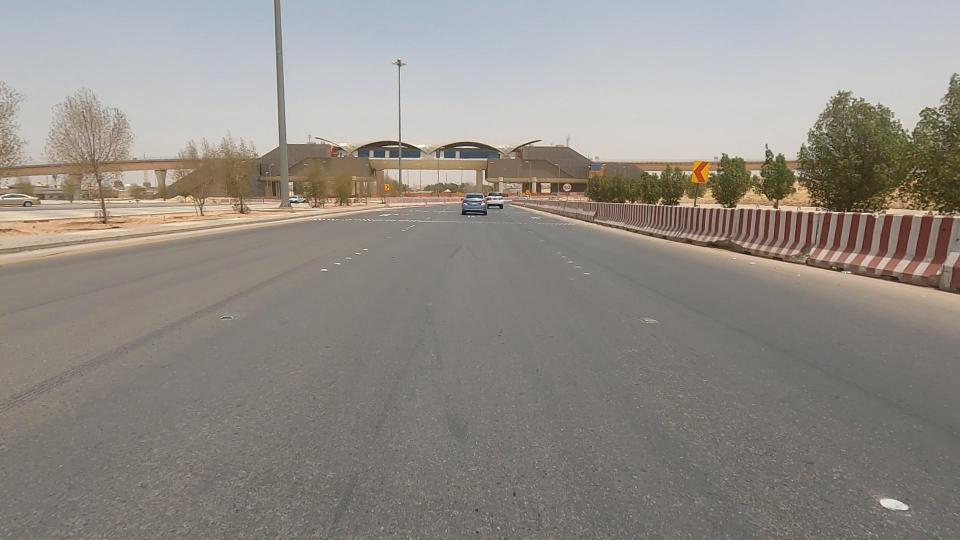CONSTRUCTION_ROAD: (681, 158, 960, 297), (581, 155, 780, 279), (523, 173, 627, 238)
